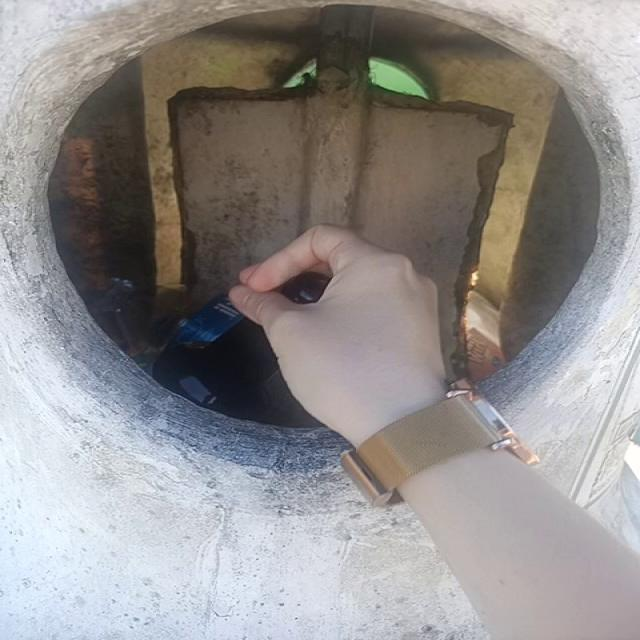Glass: (152, 319, 279, 420), (280, 272, 331, 304)
